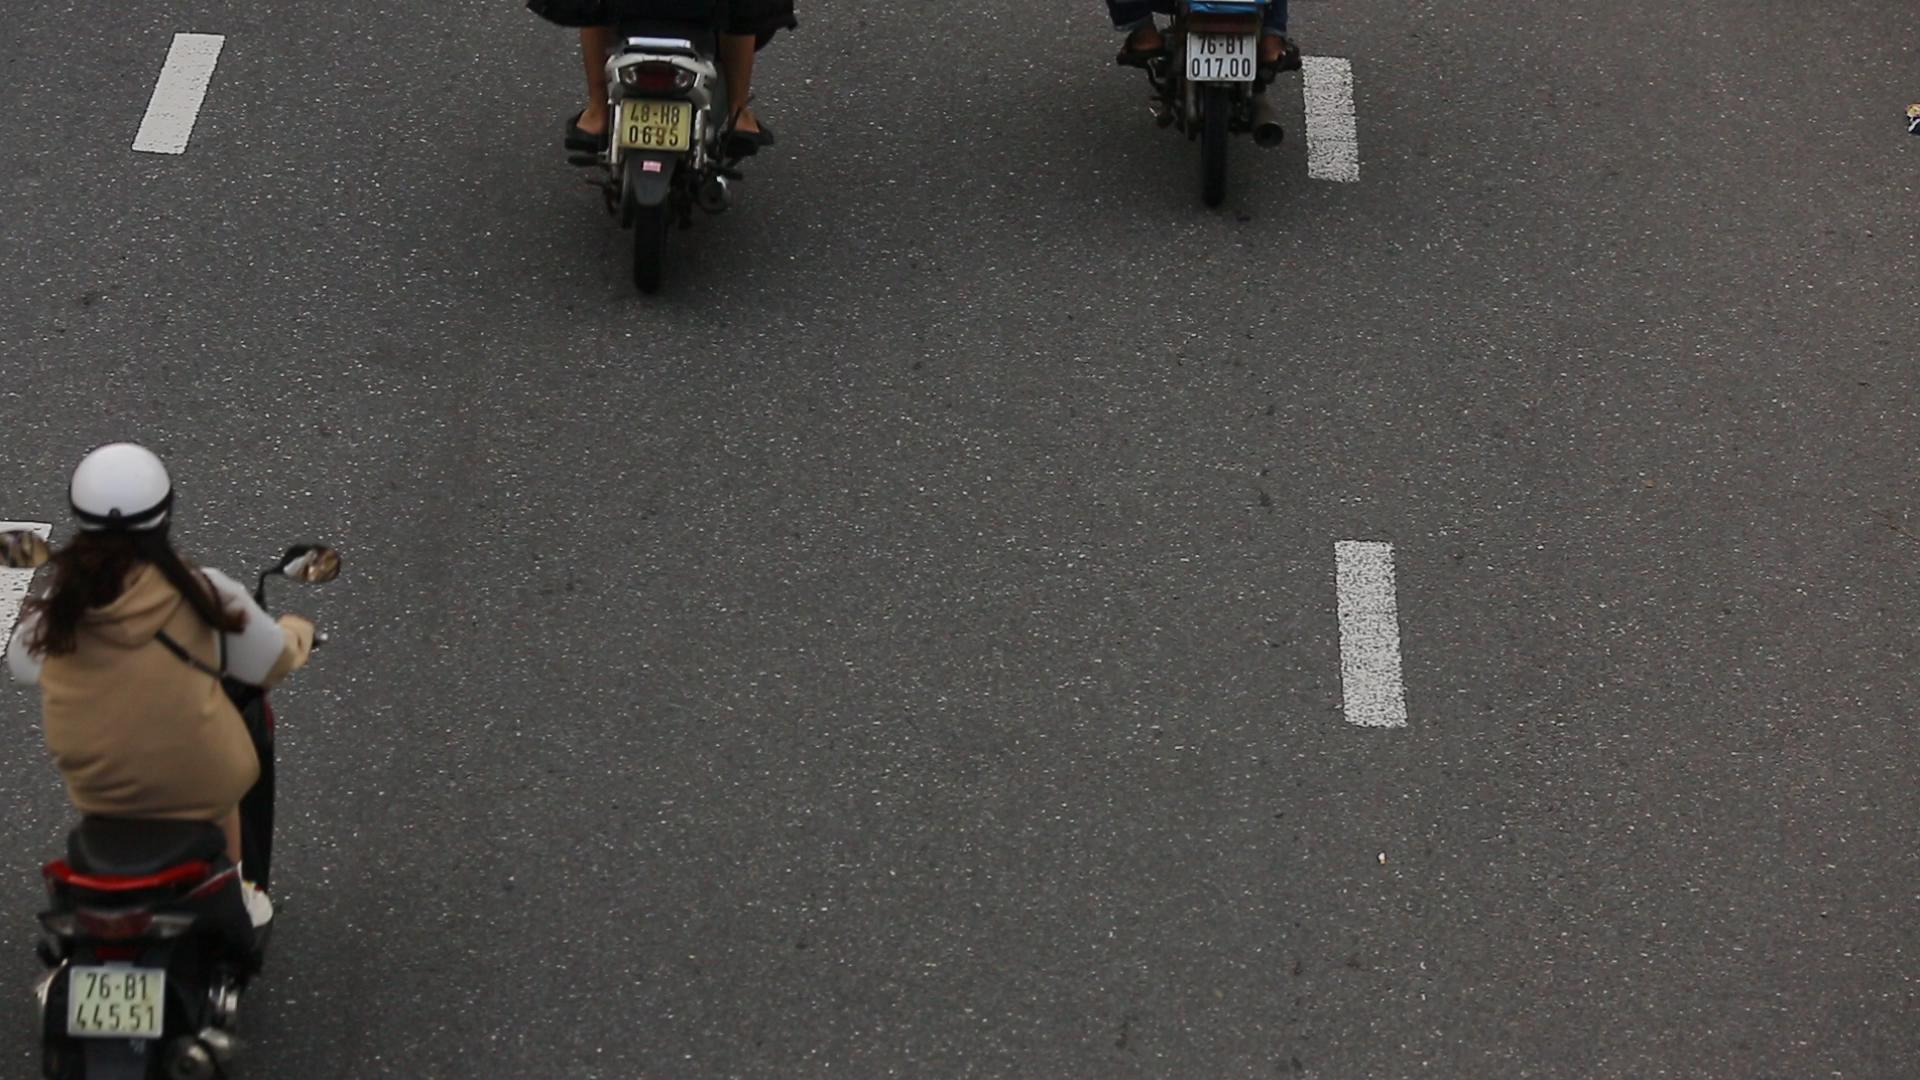motobike: (12, 385, 360, 1080)
